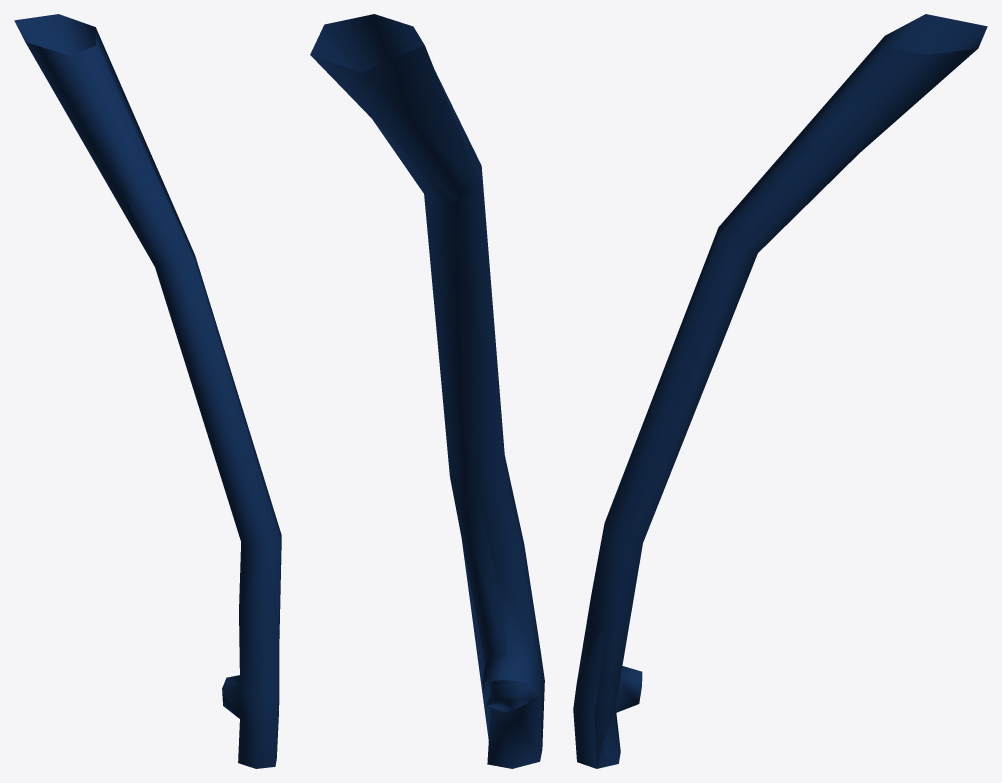
Rendered from R vena brachialis.fbx.
The picture shows the model from 3 angles, left to right: view 1: azimuth 30°, elevation 25°; view 2: azimuth 150°, elevation 25°; view 3: azimuth 270°, elevation 25°; orthographic projection. The views are drawn at different scales.
Parts seen in each view (by area): view 1: R vena brachialis, R vena brachialis low; view 2: R vena brachialis, R vena brachialis low; view 3: R vena brachialis, R vena brachialis low.
Boxes of the visible parts, box(x1,y1,x2,y2) form: R vena brachialis: box(14, 14, 281, 768); R vena brachialis low: box(25, 26, 281, 767); R vena brachialis: box(310, 14, 544, 768); R vena brachialis low: box(310, 45, 541, 760); R vena brachialis: box(573, 14, 987, 768); R vena brachialis low: box(578, 36, 977, 768).
Size of the model in its own units: 1.48 by 7.51 by 4.03.
